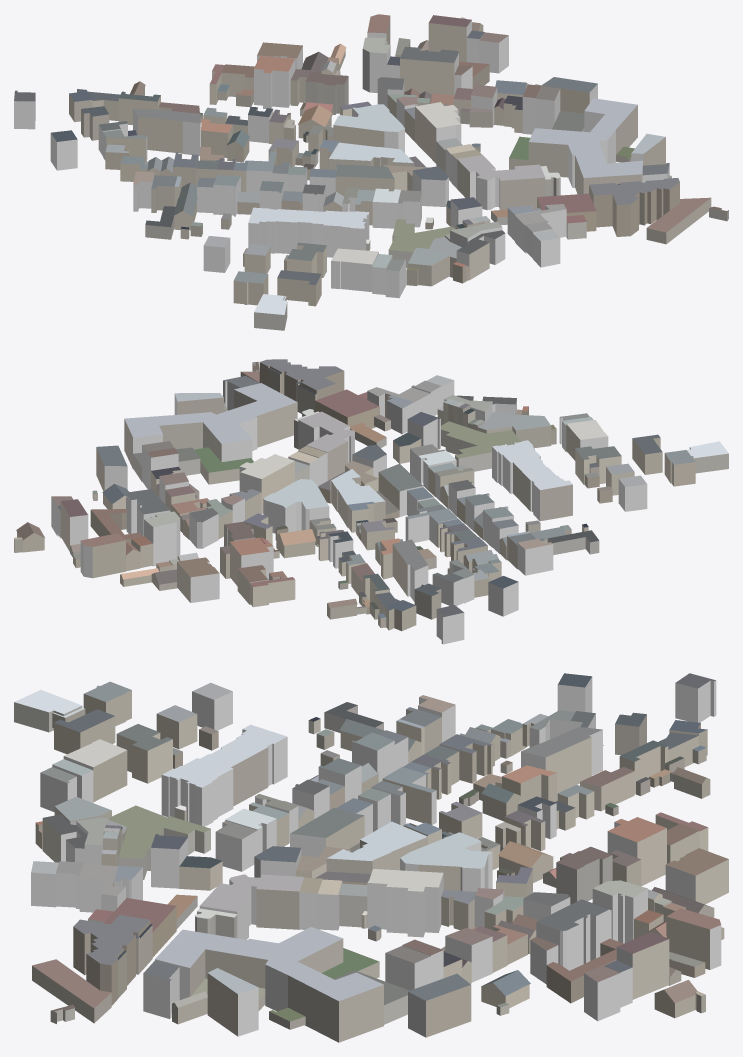
3 views of the same model, one above another, from view 1: azimuth 30°, elevation 25°; view 2: azimuth 150°, elevation 25°; view 3: azimuth 270°, elevation 25° (orthographic). The views are drawn at different scales.
Visible parts, largest first — view 1: tuile; view 2: tuile; view 3: tuile.
Part boxes in pixels (x1=…): tuile: x1=14, y1=14, x2=728, y2=330; tuile: x1=14, y1=359, x2=728, y2=644; tuile: x1=14, y1=673, x2=728, y2=1042.
Size of the model in its own units: 276 by 28.83 by 269.
